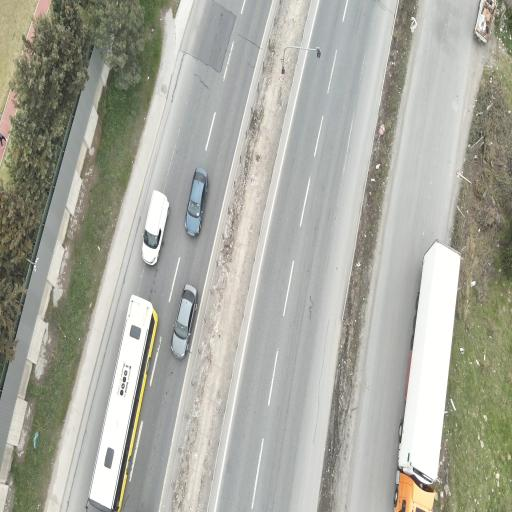bus: (86, 296, 157, 511)
car: (143, 191, 169, 265), (172, 285, 197, 358), (186, 168, 208, 236)
truck: (394, 240, 460, 511), (475, 0, 497, 43)
